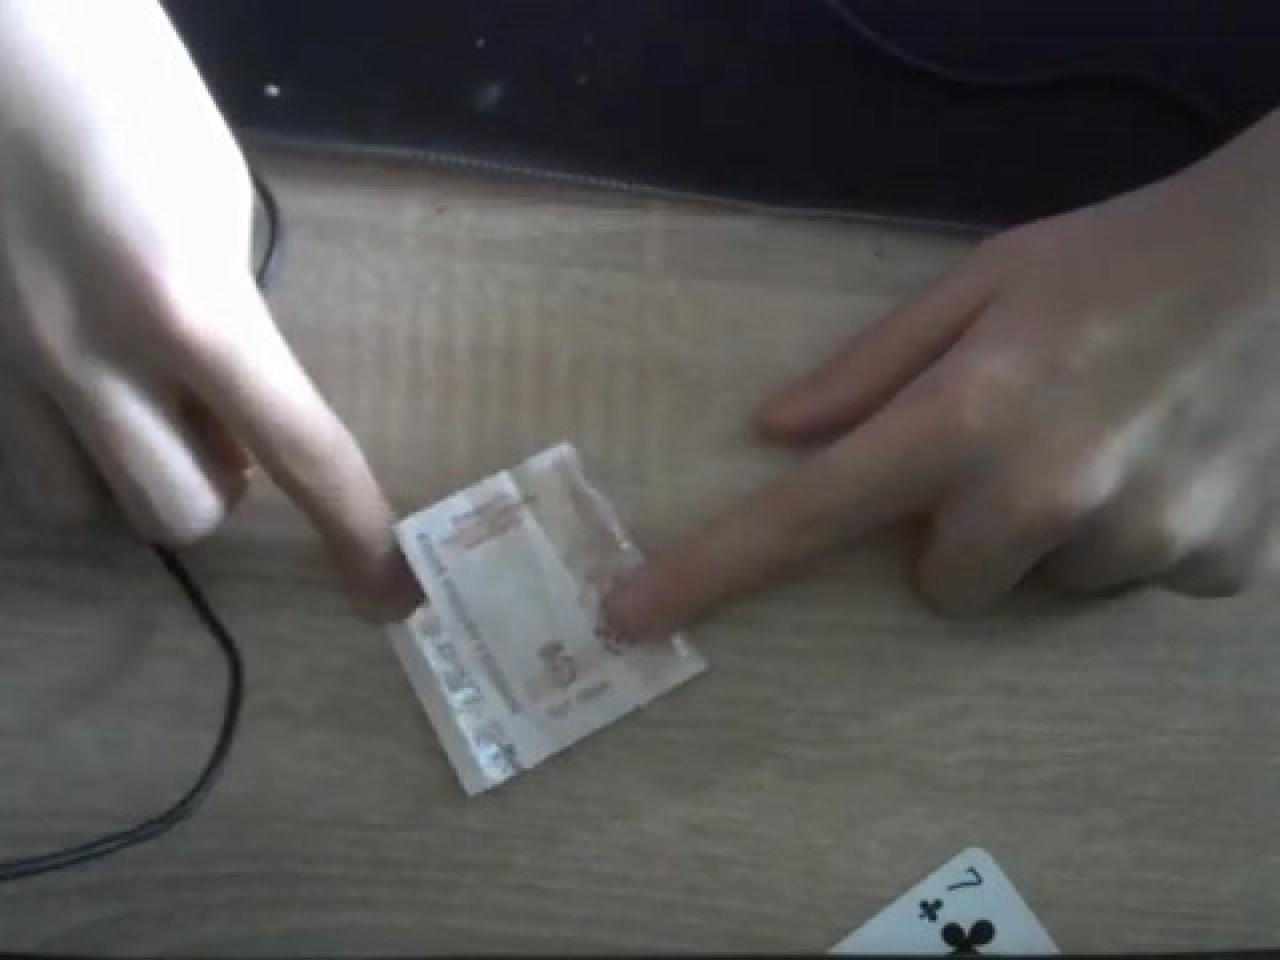5leva: (387, 443, 707, 800)
